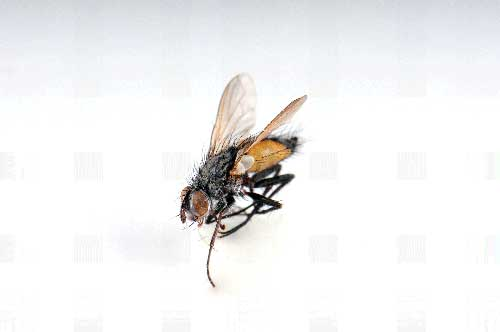fly: (173, 70, 312, 292)
